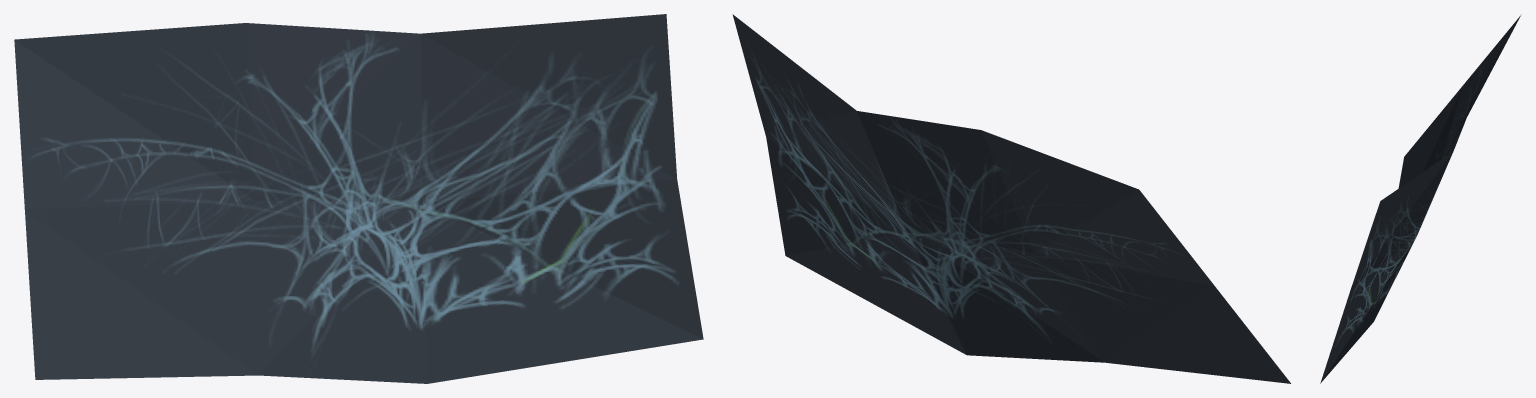
The model's file is daoju_17.fbx.
The picture shows the model from 3 angles, left to right: view 1: azimuth 30°, elevation 25°; view 2: azimuth 150°, elevation 25°; view 3: azimuth 270°, elevation 25°; orthographic projection. The views are drawn at different scales.
Visible parts, largest first — view 1: daoju_17; view 2: daoju_17; view 3: daoju_17.
Boxes of the visible parts, x1,y1,x2,y2 form: daoju_17: (14,14,703,383); daoju_17: (732,14,1290,383); daoju_17: (1320,14,1521,383).
Bounding box in the file's own units: 447 × 232 × 198.
Materials: 1 (1 with a texture image).
